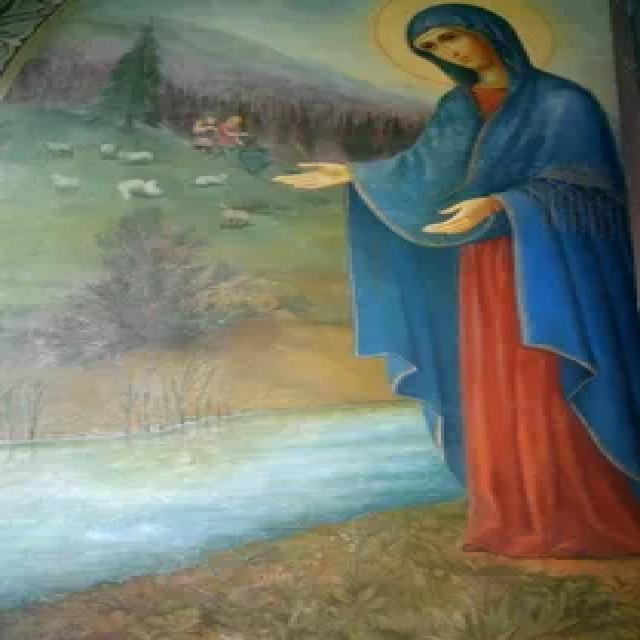mother of god: (266, 0, 640, 584)
